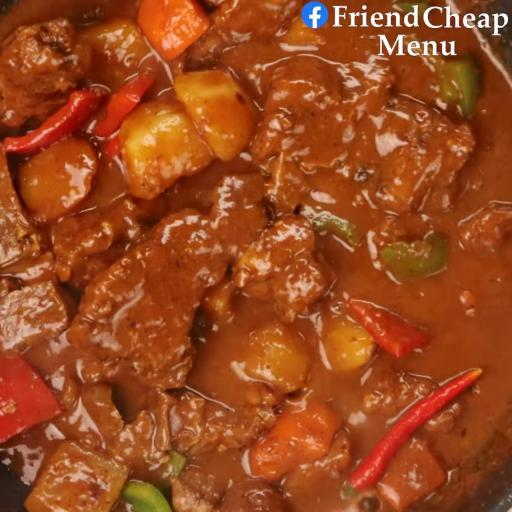pork caldereta: (0, 69, 512, 512)
